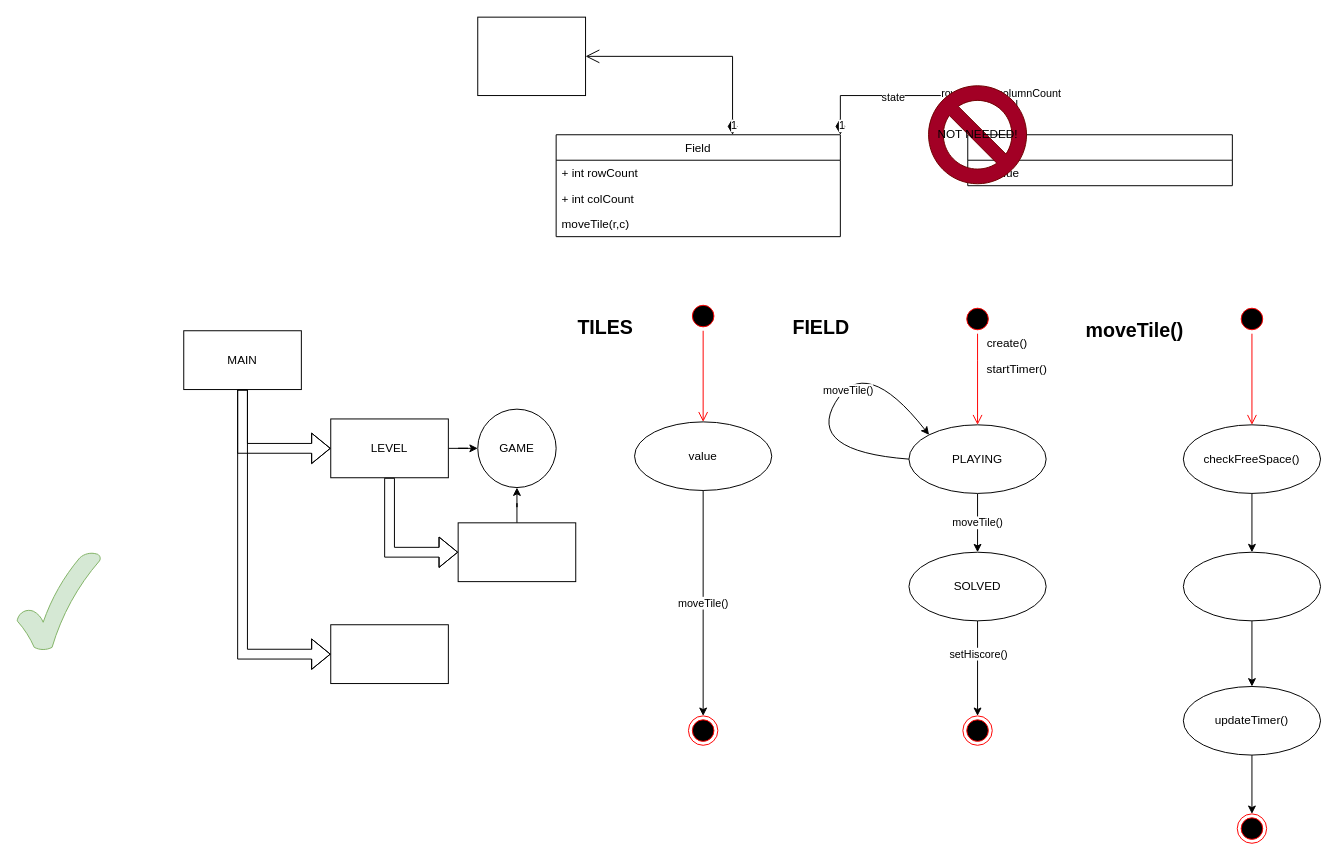
The diagram is 1338 pixels wide and 860 high, and some of its shapes have lost their labels. The shapes that lost their labels are listed below. From the top down, each one's box as (x1, y1, x2, y2) in pixels, then its label:
(477, 16, 586, 96): enum FieldState PLAYING, SOLVED
(967, 134, 1232, 186): Tile
(457, 522, 576, 582): CUSTOM_LEVEL
(1182, 551, 1321, 621): setNewPosition()
(330, 624, 448, 684): HI_SCORES
